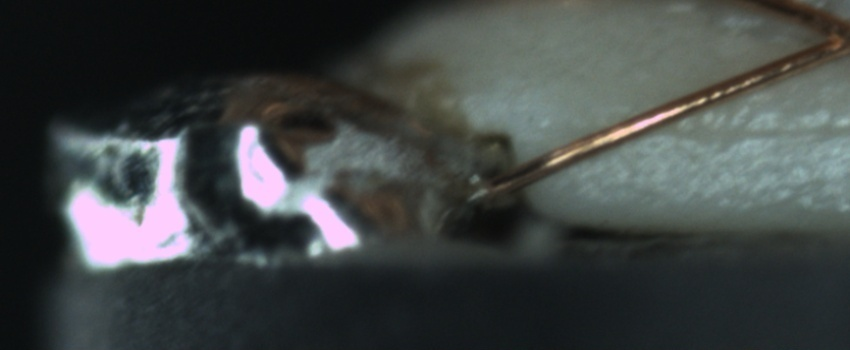CL: (795, 5, 850, 64)
DL: (619, 96, 847, 163)
